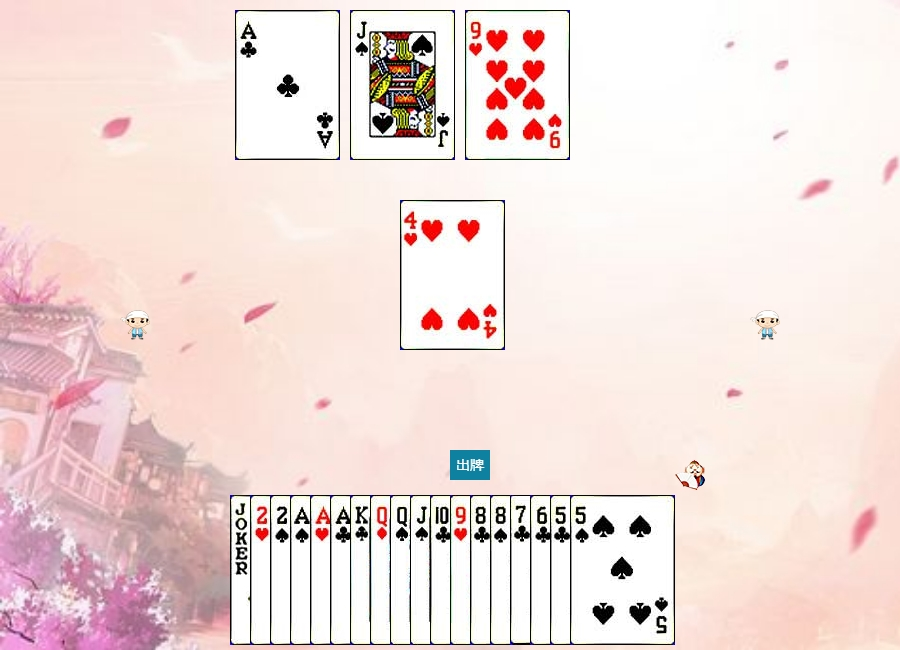10~2: (430, 495, 535, 645)
11~4: (350, 10, 455, 160), (410, 495, 515, 645)
12~1: (370, 495, 475, 645)
12~4: (390, 495, 495, 645)
13~2: (350, 495, 455, 645)
14~2: (235, 10, 340, 160), (330, 495, 435, 645)
14~3: (310, 495, 415, 645)
14~4: (290, 495, 395, 645)
15~3: (250, 495, 355, 645)
15~4: (270, 495, 375, 645)
17~3: (230, 495, 335, 645)
4~3: (400, 200, 505, 350)
5~2: (550, 495, 655, 645)
5~4: (570, 495, 675, 645)
6~2: (530, 495, 635, 645)
7~2: (510, 495, 615, 645)
8~2: (470, 495, 575, 645)
8~4: (490, 495, 595, 645)
9~3: (465, 10, 570, 160), (450, 495, 555, 645)
